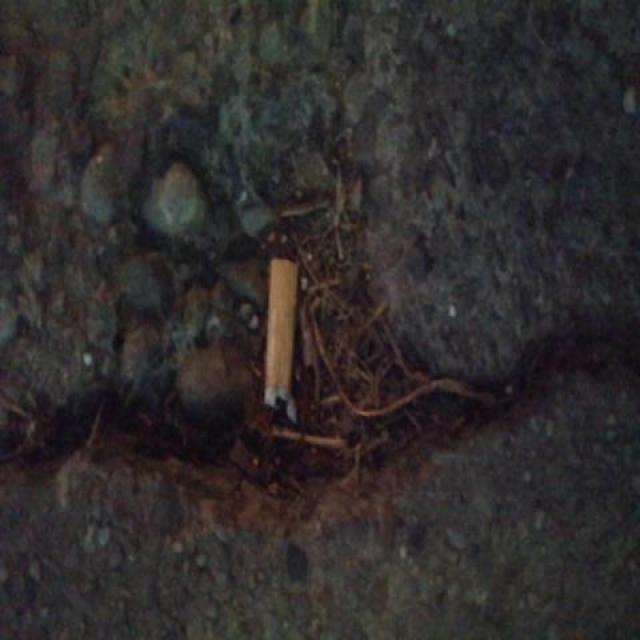non-organic waste: (259, 253, 302, 427)
